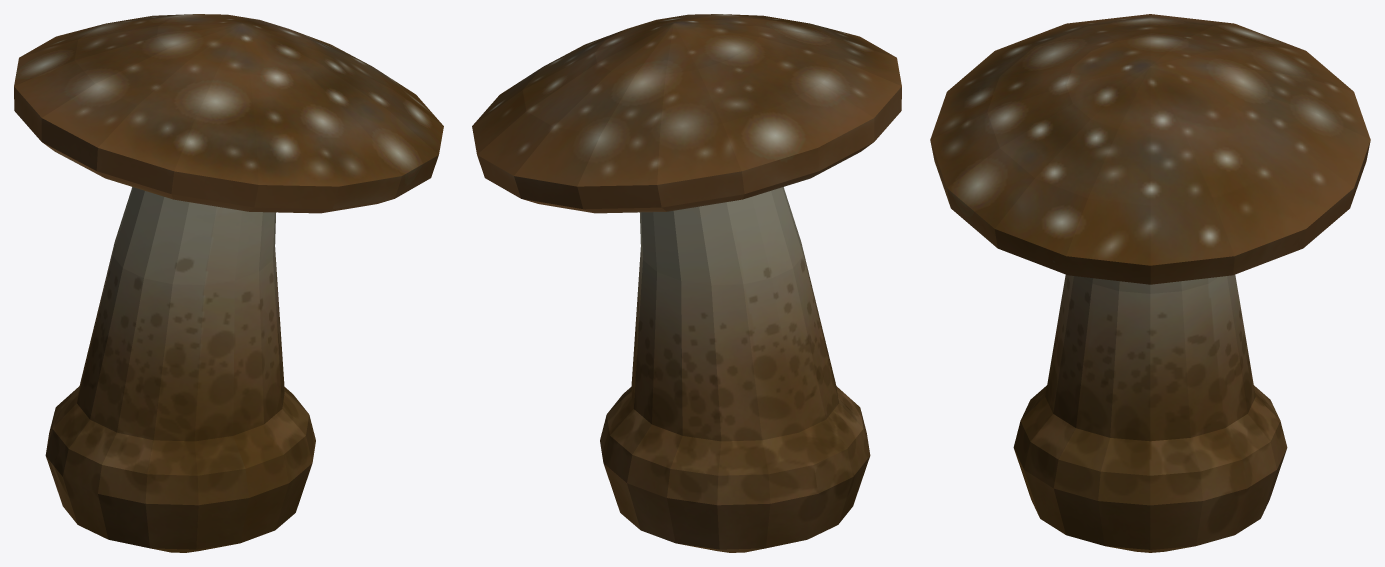
File: Big_Mushroom_1.glb
3 renders of one model, left to right at view 1: azimuth 30°, elevation 25°; view 2: azimuth 150°, elevation 25°; view 3: azimuth 270°, elevation 25°, orthographic.
Visible parts, largest first — view 1: Big_Mushroom_1; view 2: Big_Mushroom_1; view 3: Big_Mushroom_1.
Boxes of the visible parts, x1,y1,x2,y2 form: Big_Mushroom_1: [14, 14, 443, 552]; Big_Mushroom_1: [472, 14, 901, 552]; Big_Mushroom_1: [930, 14, 1370, 552].
Size of the model in its own units: 0.9799 by 1.25 by 0.9939.
Materials: 1 (1 with a texture image).
